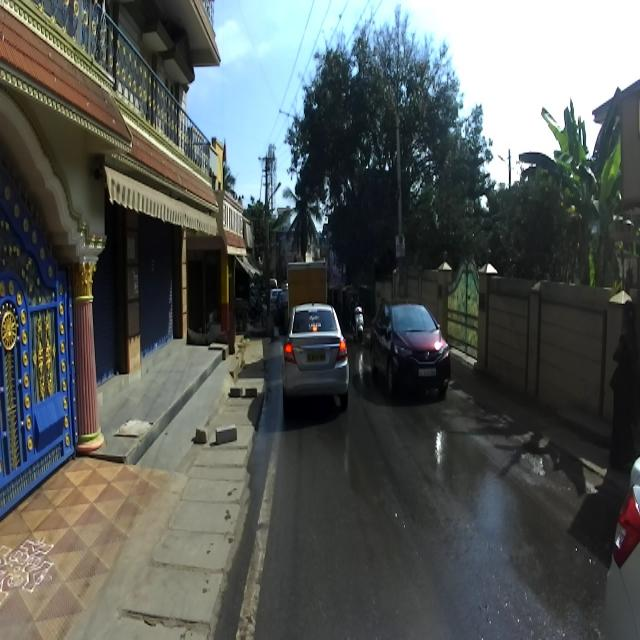car: (370, 296, 450, 401), (278, 302, 348, 412)
